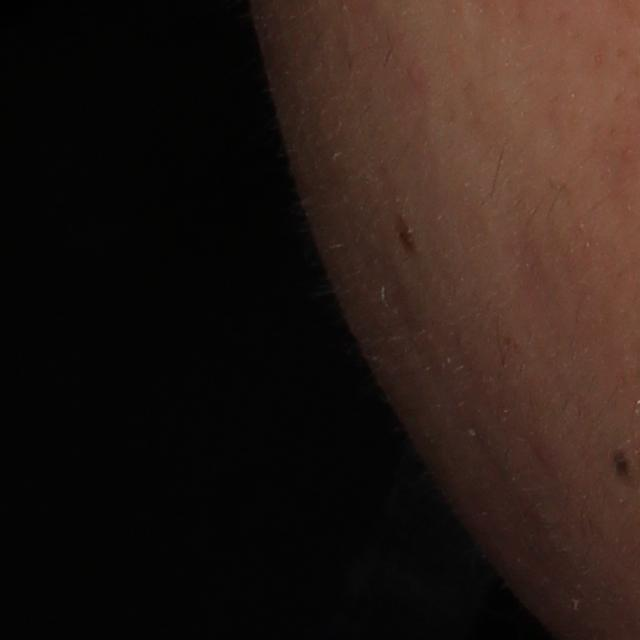nevus: (390, 212, 423, 253), (607, 442, 635, 486)
